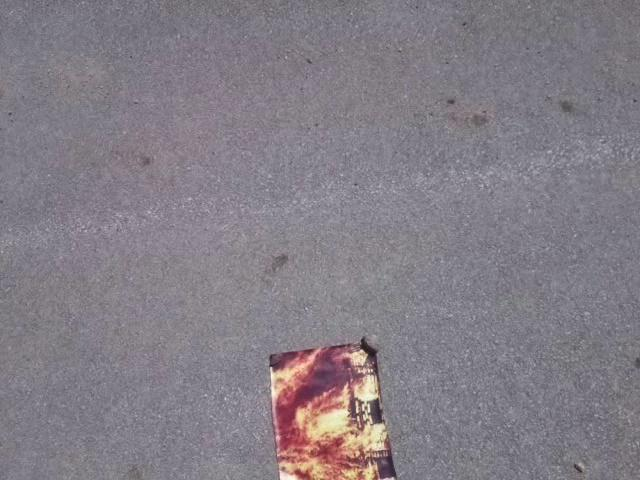fire-poster: (266, 336, 400, 479)
